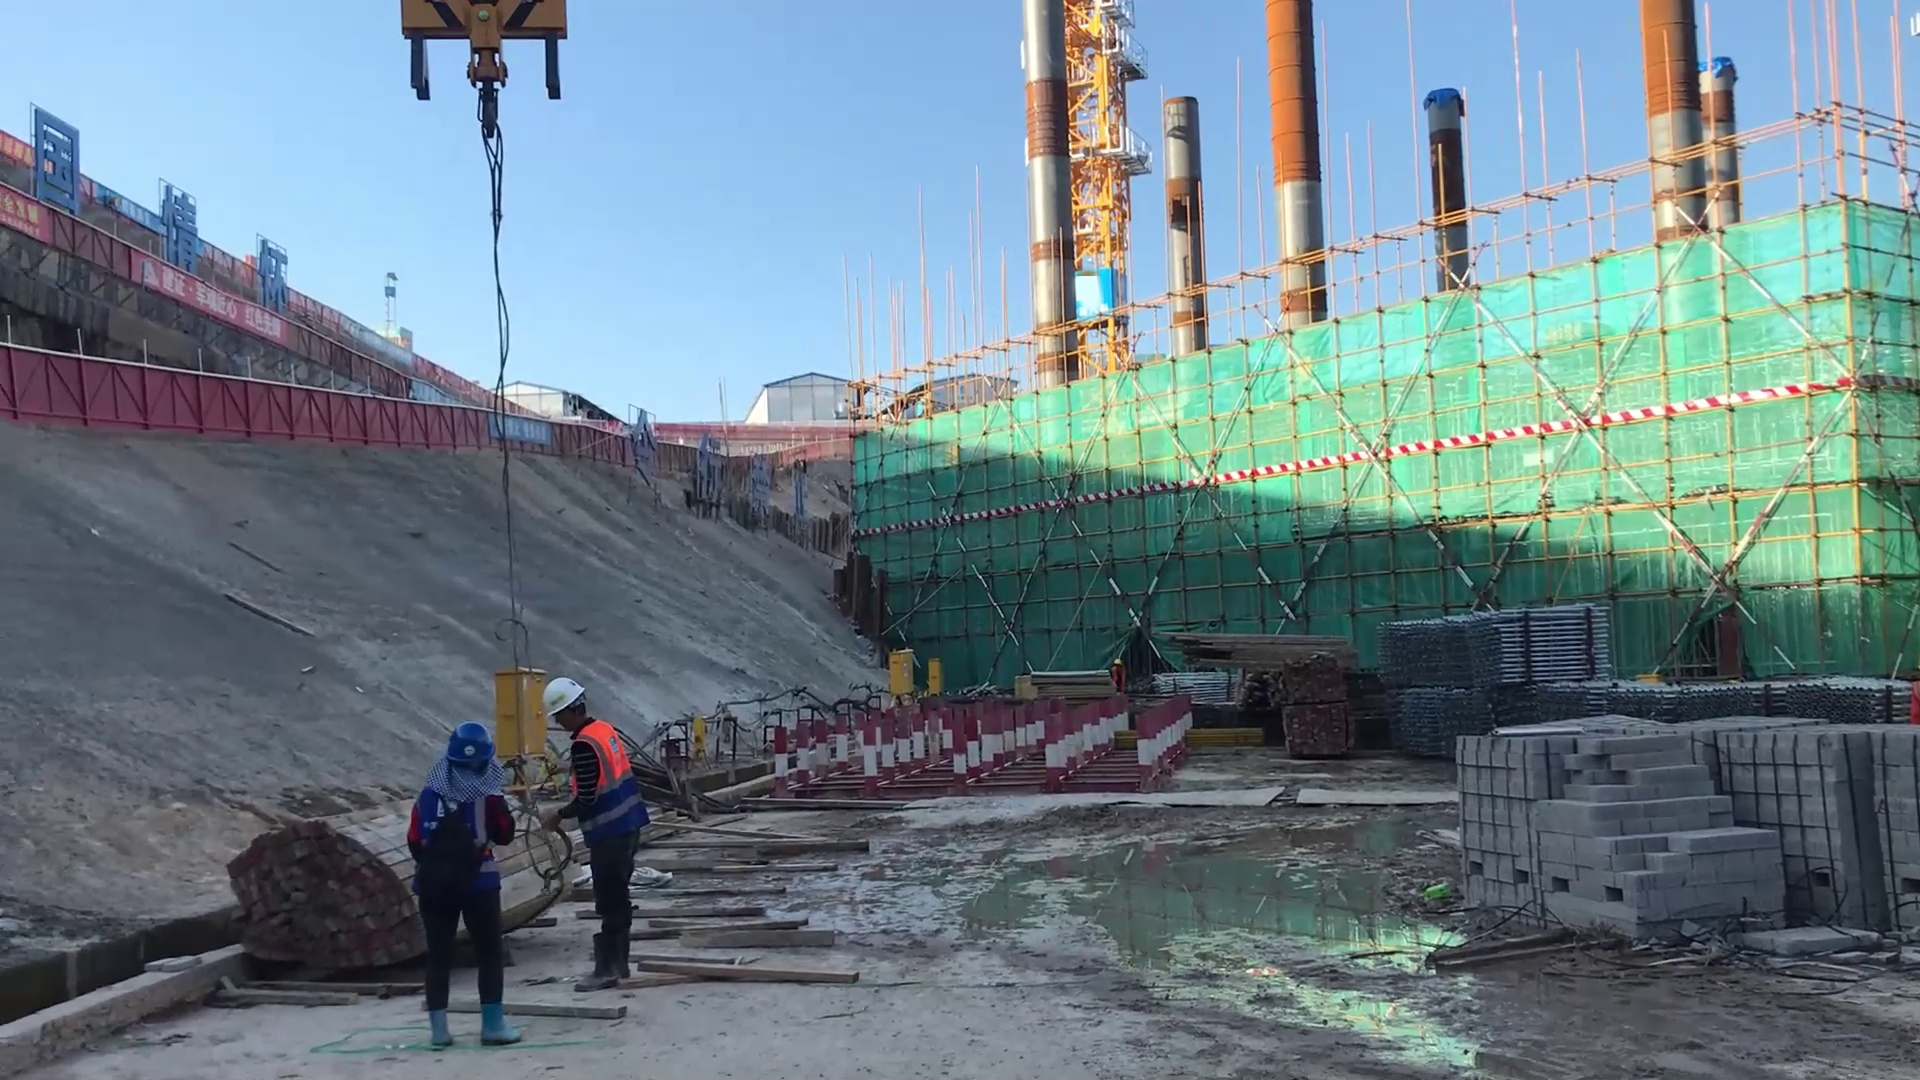brick: (1448, 727, 1911, 953)
ebox: (488, 653, 543, 768), (887, 645, 917, 699), (927, 656, 943, 698)
fence: (4, 348, 266, 449), (263, 382, 473, 446)
helmet: (434, 721, 492, 781), (537, 677, 598, 731), (1111, 658, 1123, 670)
hook: (393, 1, 570, 105)
person: (385, 718, 536, 1061), (541, 675, 647, 985), (1106, 656, 1132, 692)
scaffold: (1400, 622, 1614, 694)
vest: (571, 724, 625, 783)
wood: (219, 811, 393, 989), (1174, 623, 1347, 670)
